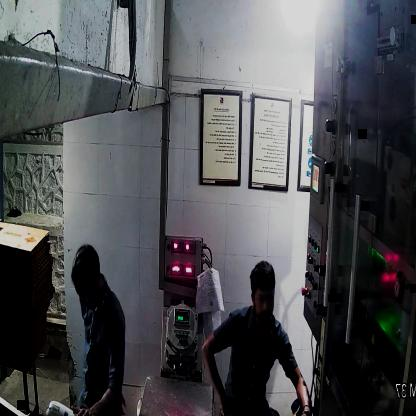no_goggles: (250, 285, 277, 310)
